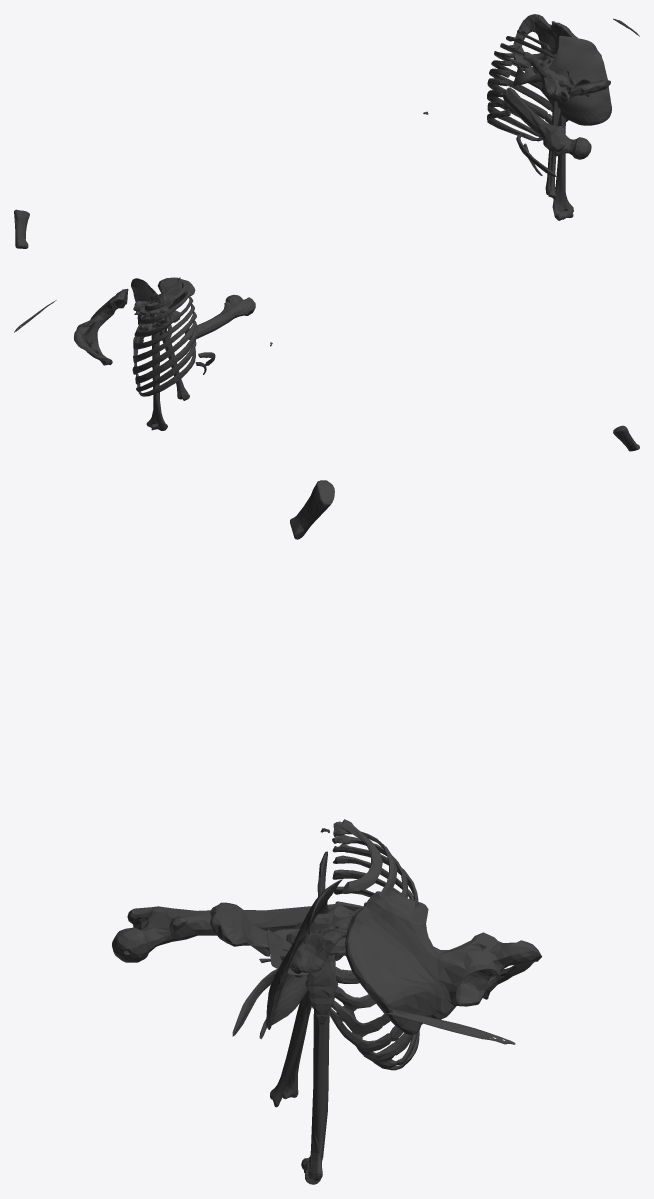
File: sharedassets43.glb
3 views of the same model, one above another, from view 1: azimuth 30°, elevation 25°; view 2: azimuth 150°, elevation 25°; view 3: azimuth 270°, elevation 25° (orthographic). The views are drawn at different scales.
Visible parts, largest first — view 1: 0001_Pectoralis major, R__1000310, 0074_Femur _thigh_, R_male_000930, 0034_Humerus _arm, brachium_, R__000807, 0087_S01-05 Sacrum__001242, 0089_Ischium, R__001010, 0049_Sixth rib _06_, R__002278, 0008_2nd Middle phalanx _hand_, R__000815, 0043_Tenth rib _10_, R__002282, 0050_Seventh rib _07_, R__002279, 0037_Manubrium__001162, 0091_Ilium, R__001012, 0042_Ninth rib _09_, R__002281 (+1 smaller); view 2: 0074_Femur _thigh_, R_male_000930, 0091_Ilium, R__001012, 0034_Humerus _arm, brachium_, R__000807, 0041_Eighth rib _08_, R__002280, 0050_Seventh rib _07_, R__002279, 0001_Pectoralis major, R__1000310, 0049_Sixth rib _06_, R__002278, 0089_Ischium, R__001010, 0037_Manubrium__001162, 0042_Ninth rib _09_, R__002281, 0048_Fifth rib _05_, R__002277, 0043_Tenth rib _10_, R__002282 (+5 smaller); view 3: 0091_Ilium, R__001012, 0074_Femur _thigh_, R_male_000930, 0034_Humerus _arm, brachium_, R__000807, 0001_Pectoralis major, R__1000310, 0089_Ischium, R__001010, 0087_S01-05 Sacrum__001242, 0037_Manubrium__001162, 0038_Body of sternum__001163, 0090_Pubis, R__001011, 0008_2nd Middle phalanx _hand_, R__000815, 0049_Sixth rib _06_, R__002278, 0032_Ulna _forearm, antebrachium_, R__000808 (+3 smaller).
Boxes of the visible parts, <box> form: 0001_Pectoralis major, R__1000310: <box>513,35,611,125</box>; 0074_Femur _thigh_, R_male_000930: <box>503,87,591,159</box>; 0034_Humerus _arm, brachium_, R__000807: <box>552,114,573,220</box>; 0087_S01-05 Sacrum__001242: <box>540,54,584,102</box>; 0089_Ischium, R__001010: <box>513,14,552,44</box>; 0049_Sixth rib _06_, R__002278: <box>489,68,552,111</box>; 0008_2nd Middle phalanx _hand_, R__000815: <box>14,209,29,248</box>; 0043_Tenth rib _10_, R__002282: <box>487,109,542,141</box>; 0050_Seventh rib _07_, R__002279: <box>487,78,568,124</box>; 0037_Manubrium__001162: <box>567,79,610,97</box>; 0091_Ilium, R__001012: <box>547,21,601,57</box>; 0042_Ninth rib _09_, R__002281: <box>487,100,542,138</box>; 0074_Femur _thigh_, R_male_000930: <box>185,294,255,339</box>; 0091_Ilium, R__001012: <box>86,288,128,342</box>; 0034_Humerus _arm, brachium_, R__000807: <box>146,331,167,430</box>; 0041_Eighth rib _08_, R__002280: <box>135,329,197,384</box>; 0050_Seventh rib _07_, R__002279: <box>132,320,197,374</box>; 0001_Pectoralis major, R__1000310: <box>131,278,171,338</box>; 0049_Sixth rib _06_, R__002278: <box>133,311,196,363</box>; 0089_Ischium, R__001010: <box>74,320,98,357</box>; 0037_Manubrium__001162: <box>157,277,195,304</box>; 0042_Ninth rib _09_, R__002281: <box>136,340,196,391</box>; 0048_Fifth rib _05_, R__002277: <box>133,304,194,349</box>; 0043_Tenth rib _10_, R__002282: <box>138,348,195,396</box>; 0091_Ilium, R__001012: <box>345,890,468,1034</box>; 0074_Femur _thigh_, R_male_000930: <box>112,903,342,962</box>; 0034_Humerus _arm, brachium_, R__000807: <box>301,1010,329,1184</box>; 0001_Pectoralis major, R__1000310: <box>266,879,342,1029</box>; 0089_Ischium, R__001010: <box>459,932,541,977</box>; 0087_S01-05 Sacrum__001242: <box>279,905,355,977</box>; 0037_Manubrium__001162: <box>210,902,269,956</box>; 0038_Body of sternum__001163: <box>305,913,338,1015</box>; 0090_Pubis, R__001011: <box>457,967,523,1006</box>; 0008_2nd Middle phalanx _hand_, R__000815: <box>290,480,334,539</box>; 0049_Sixth rib _06_, R__002278: <box>331,869,401,1036</box>; 0032_Ulna _forearm, antebrachium_, R__000808: <box>270,998,311,1107</box>.
Bounding box in the file's own units: 0.7785 × 0.2153 × 0.254.
Materials: 1 (1 with a texture image).
